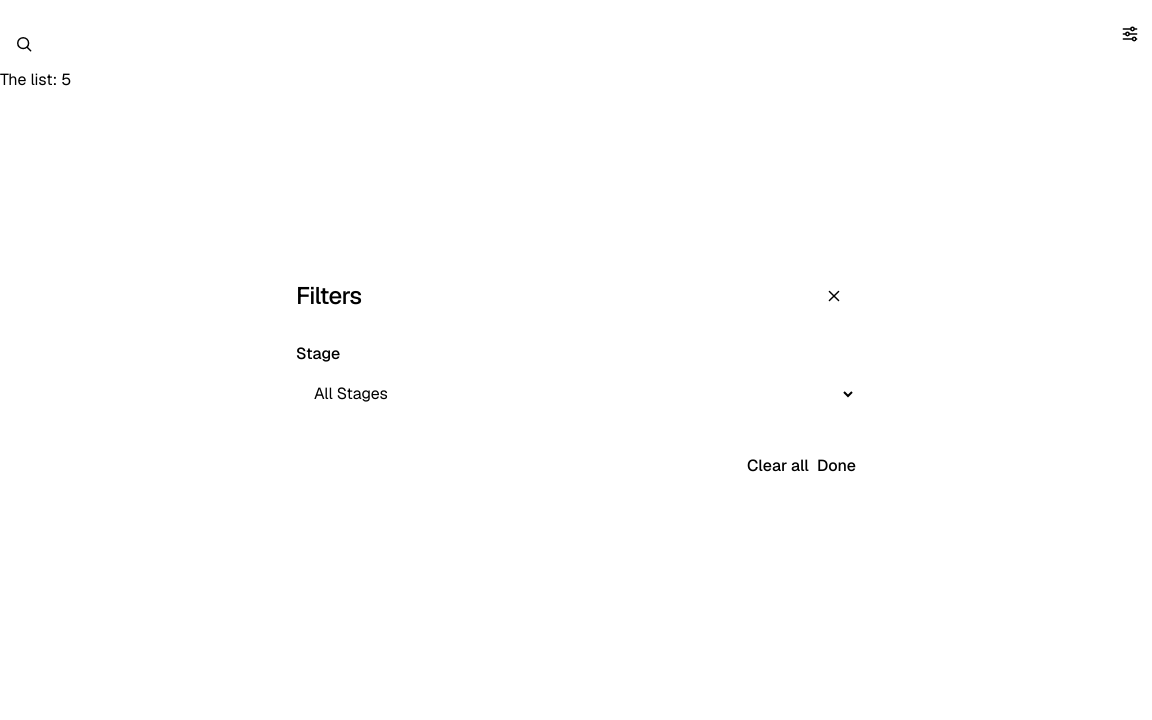
it: filters on a phone › open as a sheet with every filter labelled, the More filters ones too
Click the button named "Filters". click: click(1130, 34)
box: [1108, 12, 1151, 56]
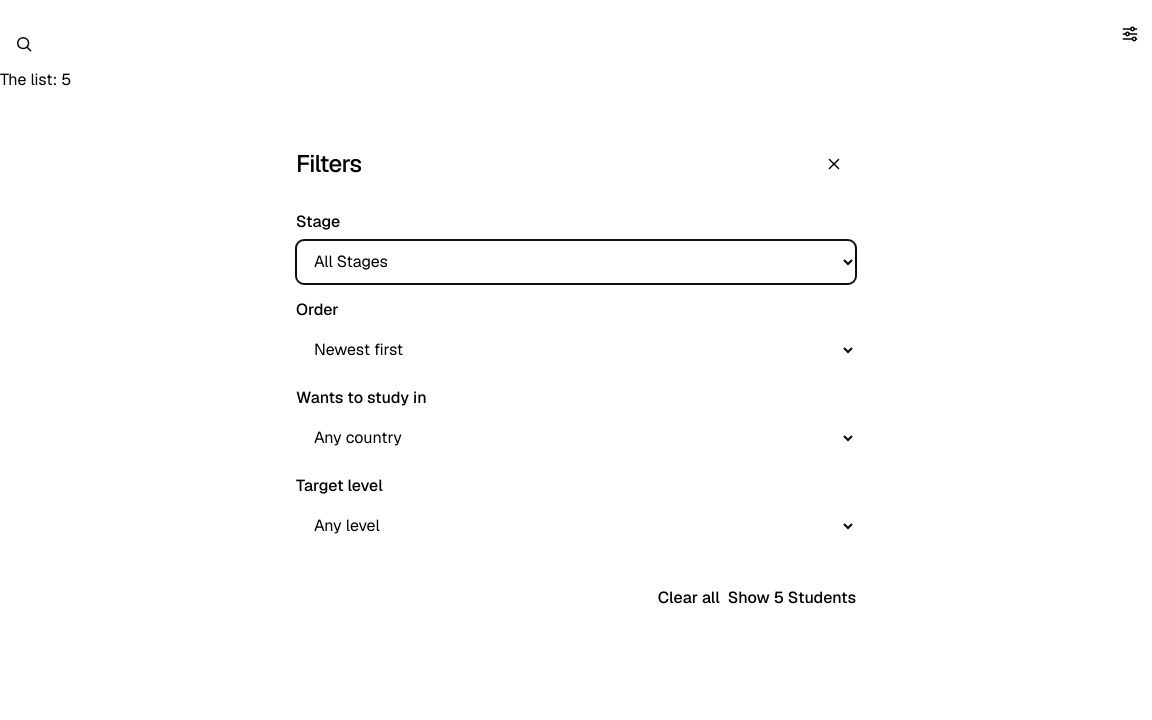
Expected: the text "Order" is shown, [296, 298, 856, 372]
Expected: the text "Wants to study in" is shown, [296, 386, 856, 460]
Expected: the text "Target level" is shown, [296, 474, 856, 548]
